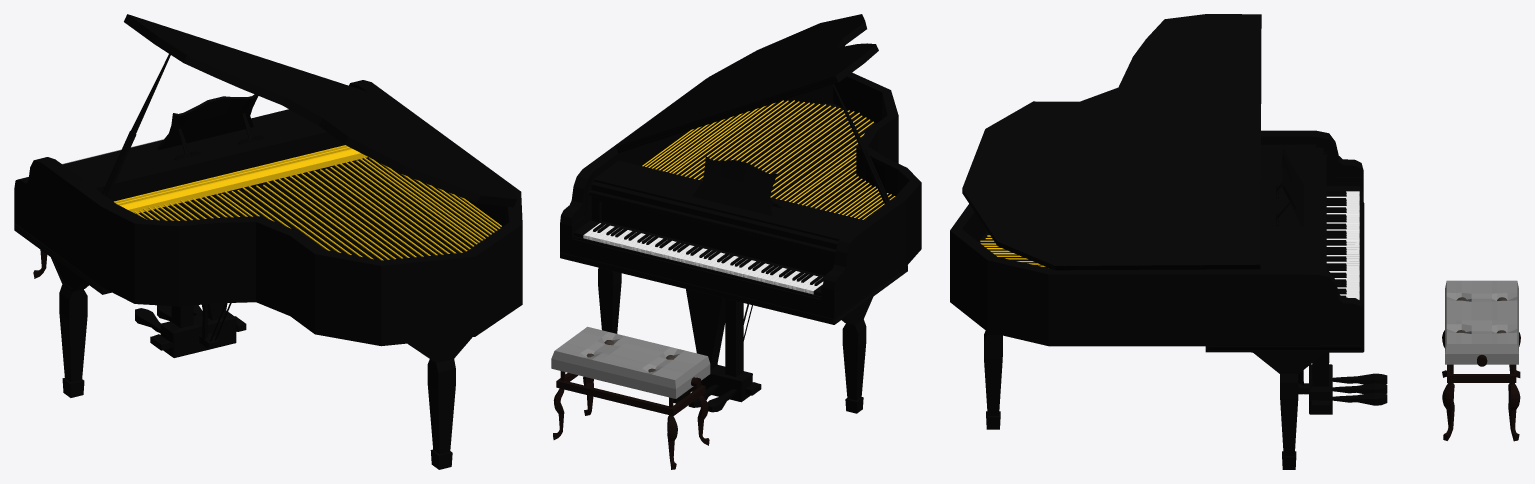
Rendered from piano.obj.
3 renders of one model, left to right at view 1: azimuth 30°, elevation 25°; view 2: azimuth 150°, elevation 25°; view 3: azimuth 270°, elevation 25°, orthographic. The views are drawn at different scales.
Parts seen in each view (by area): view 1: _Piano:zhuSheng _Piano:qinSheng _Piano:Piano Piano, _Piano:qinSheng _Piano:Piano Piano _Piano:guanJie_Group _Piano:g, Piano _Piano:qinXuan_Group _Piano:pCube7, _Piano:Piano Piano _Piano:leg_Group _Piano:Leg2, _Piano:qinSheng _Piano:Piano Piano _Piano:diJia, _Piano:Piano Piano _Piano:Leg _Piano:leg_Group, _Piano:qinSheng _Piano:Piano Piano _Piano:puJia_Group _Piano:puJ, _Piano:qinSheng _Piano:Piano Piano _Piano:guanJie_2 _Piano:guanJ, _Piano:qinSheng _Piano:Piano Piano _Piano:diGai_1 _Piano:diGai_G, _Piano:qinSheng _Piano:Piano Piano _Piano:diJia _Piano:jiaoDeng_; view 2: _Piano:zhuSheng _Piano:qinSheng _Piano:Piano Piano, _Piano:qinSheng _Piano:Piano Piano _Piano:guanJie_Group _Piano:g, Piano _Piano:zuoDianzi, _Piano:qinSheng _Piano:Piano Piano _Piano:diJia, _Piano:qinSheng _Piano:Piano Piano _Piano:qinJian_Group _Piano:q, _Piano:qinSheng _Piano:Piano Piano _Piano:puJia_Group _Piano:puJ, _Piano:qinSheng _Piano:Piano Piano _Piano:diGai_1 _Piano:diGai_G, _Piano:Piano Piano _Piano:Leg _Piano:leg_Group, Piano _Piano:xiaoKuangzi _Piano:dengZi_Group, _Piano:Piano Piano _Piano:leg_Group _Piano:Leg1, _Piano:qinSheng _Piano:Piano Piano _Piano:qinJian_Group _Piano:b, _Piano:qinSheng _Piano:Piano Piano _Piano:ganZi (+3 smaller); view 3: _Piano:qinSheng _Piano:Piano Piano _Piano:guanJie_Group _Piano:g, _Piano:zhuSheng _Piano:qinSheng _Piano:Piano Piano, Piano _Piano:zuoDianzi, _Piano:qinSheng _Piano:Piano Piano _Piano:qinJian_Group _Piano:q, _Piano:Piano Piano _Piano:leg_Group _Piano:Leg1, _Piano:Piano Piano _Piano:leg_Group _Piano:Leg2, _Piano:qinSheng _Piano:Piano Piano _Piano:diJia, _Piano:qinSheng _Piano:Piano Piano _Piano:diGai_1 _Piano:diGai_G, _Piano:qinSheng _Piano:Piano Piano _Piano:diJia _Piano:jiaoDeng_, _Piano:qinSheng _Piano:Piano Piano _Piano:qinJian_Group _Piano:b, _Piano:qinSheng _Piano:Piano Piano _Piano:puJia_Group _Piano:puJ, Piano _Piano:xiaoKuangzi _Piano:dengZi_Group.
Boxes of the visible parts, x1=… form: _Piano:zhuSheng _Piano:qinSheng _Piano:Piano Piano: x1=14, y1=80, x2=522, y2=346; _Piano:qinSheng _Piano:Piano Piano _Piano:guanJie_Group _Piano:g: x1=124, y1=14, x2=516, y2=207; Piano _Piano:qinXuan_Group _Piano:pCube7: x1=114, y1=145, x2=367, y2=213; _Piano:Piano Piano _Piano:leg_Group _Piano:Leg2: x1=408, y1=337, x2=471, y2=469; _Piano:qinSheng _Piano:Piano Piano _Piano:diJia: x1=150, y1=303, x2=246, y2=357; _Piano:Piano Piano _Piano:Leg _Piano:leg_Group: x1=51, y1=257, x2=88, y2=397; _Piano:qinSheng _Piano:Piano Piano _Piano:puJia_Group _Piano:puJ: x1=157, y1=94, x2=258, y2=150; _Piano:qinSheng _Piano:Piano Piano _Piano:guanJie_2 _Piano:guanJ: x1=102, y1=54, x2=170, y2=197; _Piano:qinSheng _Piano:Piano Piano _Piano:diGai_1 _Piano:diGai_G: x1=14, y1=223, x2=111, y2=294; _Piano:qinSheng _Piano:Piano Piano _Piano:diJia _Piano:jiaoDeng_: x1=135, y1=305, x2=202, y2=333; _Piano:zhuSheng _Piano:qinSheng _Piano:Piano Piano: x1=560, y1=72, x2=921, y2=318; _Piano:qinSheng _Piano:Piano Piano _Piano:guanJie_Group _Piano:g: x1=615, y1=14, x2=878, y2=152; Piano _Piano:zuoDianzi: x1=551, y1=326, x2=710, y2=398; _Piano:qinSheng _Piano:Piano Piano _Piano:diJia: x1=686, y1=289, x2=761, y2=402; _Piano:qinSheng _Piano:Piano Piano _Piano:qinJian_Group _Piano:q: x1=588, y1=222, x2=824, y2=294; _Piano:qinSheng _Piano:Piano Piano _Piano:puJia_Group _Piano:puJ: x1=692, y1=156, x2=776, y2=215; _Piano:qinSheng _Piano:Piano Piano _Piano:diGai_1 _Piano:diGai_G: x1=560, y1=252, x2=907, y2=324; _Piano:Piano Piano _Piano:Leg _Piano:leg_Group: x1=842, y1=297, x2=872, y2=413; Piano _Piano:xiaoKuangzi _Piano:dengZi_Group: x1=556, y1=373, x2=705, y2=415; _Piano:Piano Piano _Piano:leg_Group _Piano:Leg1: x1=598, y1=268, x2=621, y2=333; _Piano:qinSheng _Piano:Piano Piano _Piano:qinJian_Group _Piano:b: x1=583, y1=223, x2=817, y2=292; _Piano:qinSheng _Piano:Piano Piano _Piano:ganZi: x1=572, y1=236, x2=821, y2=298; _Piano:qinSheng _Piano:Piano Piano _Piano:guanJie_Group _Piano:g: x1=962, y1=14, x2=1261, y2=270; _Piano:zhuSheng _Piano:qinSheng _Piano:Piano Piano: x1=950, y1=130, x2=1363, y2=346; Piano _Piano:zuoDianzi: x1=1445, y1=280, x2=1518, y2=364; _Piano:qinSheng _Piano:Piano Piano _Piano:qinJian_Group _Piano:q: x1=1326, y1=191, x2=1359, y2=294; _Piano:Piano Piano _Piano:leg_Group _Piano:Leg1: x1=1253, y1=352, x2=1324, y2=469; _Piano:Piano Piano _Piano:leg_Group _Piano:Leg2: x1=984, y1=331, x2=1002, y2=429; _Piano:qinSheng _Piano:Piano Piano _Piano:diJia: x1=1298, y1=352, x2=1332, y2=414; _Piano:qinSheng _Piano:Piano Piano _Piano:diGai_1 _Piano:diGai_G: x1=1205, y1=202, x2=1364, y2=352; _Piano:qinSheng _Piano:Piano Piano _Piano:diJia _Piano:jiaoDeng_: x1=1332, y1=373, x2=1387, y2=405; _Piano:qinSheng _Piano:Piano Piano _Piano:qinJian_Group _Piano:b: x1=1326, y1=196, x2=1359, y2=295; _Piano:qinSheng _Piano:Piano Piano _Piano:puJia_Group _Piano:puJ: x1=1282, y1=149, x2=1303, y2=226; Piano _Piano:xiaoKuangzi _Piano:dengZi_Group: x1=1447, y1=364, x2=1516, y2=382.
Bounding box in the file's own units: 16.06 × 17.71 × 26.84.
